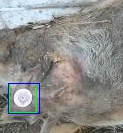text: (9, 83, 36, 112)
